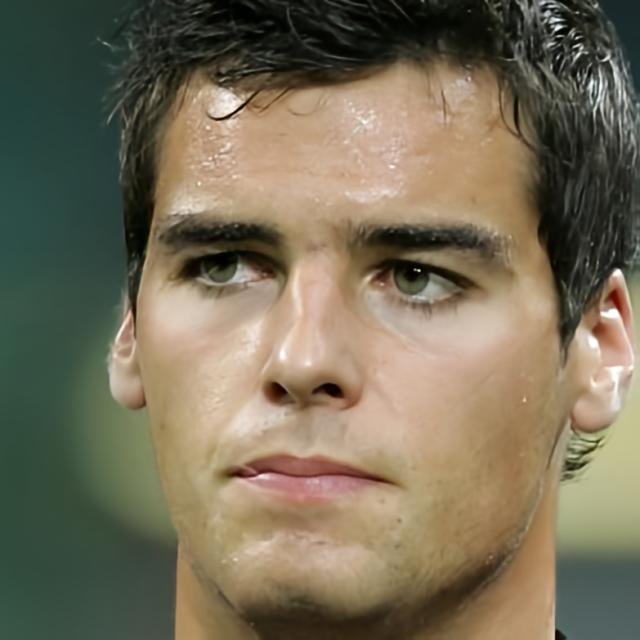sad: (133, 49, 568, 636)
